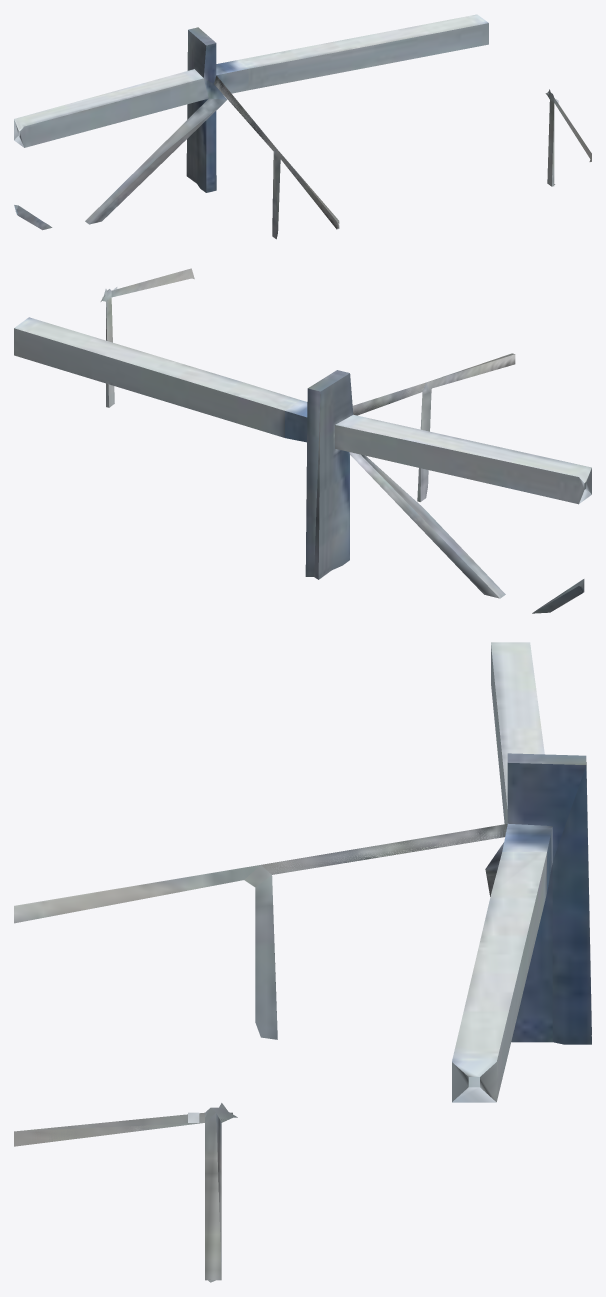
The picture shows the model from 3 angles, top to bottom: view 1: azimuth 30°, elevation 25°; view 2: azimuth 150°, elevation 25°; view 3: azimuth 270°, elevation 25°; orthographic projection. The views are drawn at different scales.
Parts seen in each view (by area): view 1: 30436272704370425752_0; view 2: 30436272704370425752_0; view 3: 30436272704370425752_0.
Part boxes in pixels (x1=…): 30436272704370425752_0: x1=14, y1=14, x2=591, y2=239; 30436272704370425752_0: x1=14, y1=268, x2=591, y2=613; 30436272704370425752_0: x1=14, y1=642, x2=591, y2=1282.
Bounding box in the file's own units: 27.47 × 8.48 × 15.89.
Materials: 1 (1 with a texture image).
